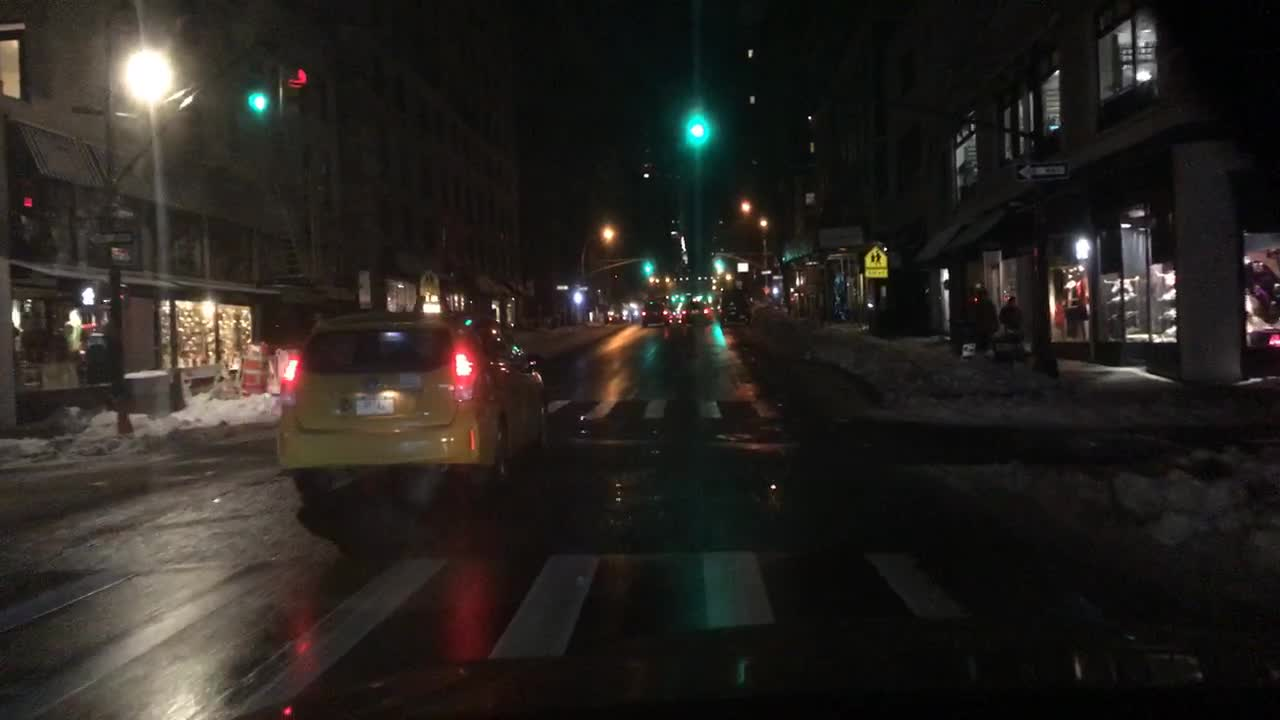car: (277, 304, 550, 497), (721, 289, 754, 326), (641, 301, 666, 326), (680, 300, 709, 321), (606, 301, 633, 321)
person: (970, 289, 998, 345), (996, 295, 1025, 331)
traffic light: (277, 62, 305, 129), (248, 61, 269, 122), (1071, 232, 1090, 262), (708, 111, 721, 152), (690, 103, 703, 140), (82, 277, 97, 306), (113, 283, 131, 305), (643, 262, 653, 272), (680, 290, 686, 305), (716, 258, 722, 272), (671, 290, 676, 304)
traffic sign: (1016, 162, 1069, 180), (864, 244, 889, 279), (84, 232, 134, 245), (419, 267, 440, 295), (111, 248, 133, 264), (555, 281, 568, 290), (571, 285, 587, 291)
